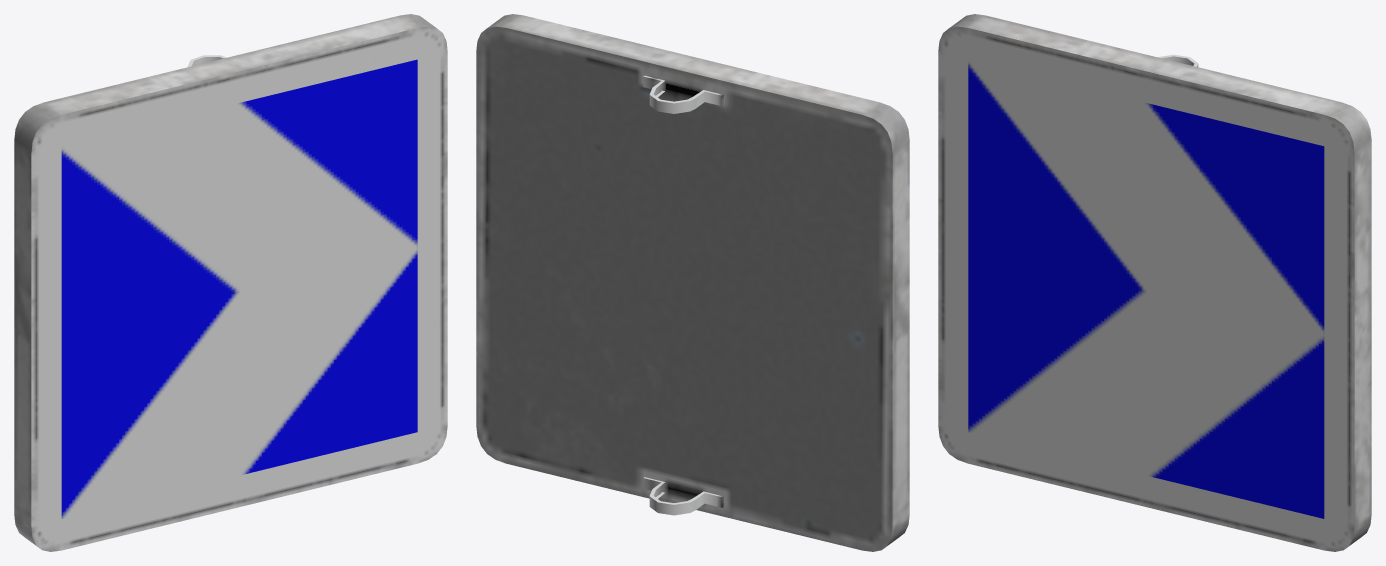
The model's file is Mesh_PanelRoadSign_J4_001_LOD0.FBX.
3 views of the same model, side by side, from view 1: azimuth 30°, elevation 25°; view 2: azimuth 150°, elevation 25°; view 3: azimuth 330°, elevation 25° (orthographic).
Visible parts, largest first — view 1: J4; view 2: J4; view 3: J4.
Boxes of the visible parts, bbox=[...] form: J4: bbox=[14, 14, 447, 551]; J4: bbox=[476, 14, 909, 551]; J4: bbox=[938, 14, 1371, 551].
Bounding box in the file's own units: 70 × 11.58 × 70.
